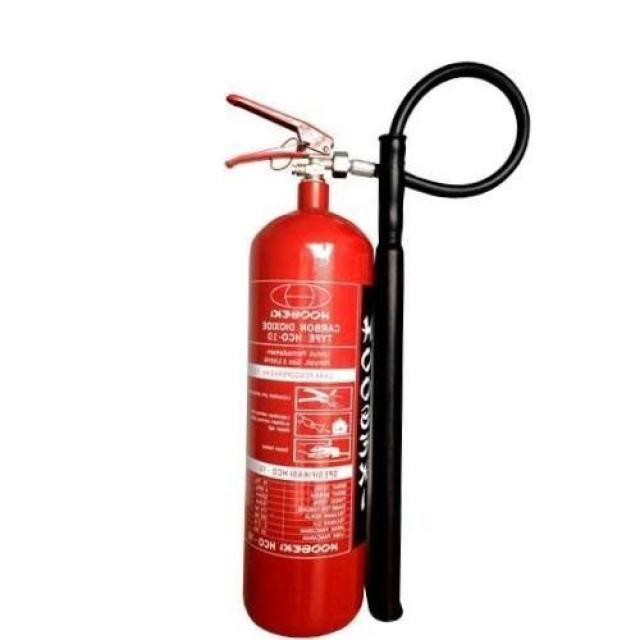fire_extinguisher: (213, 56, 531, 639)
